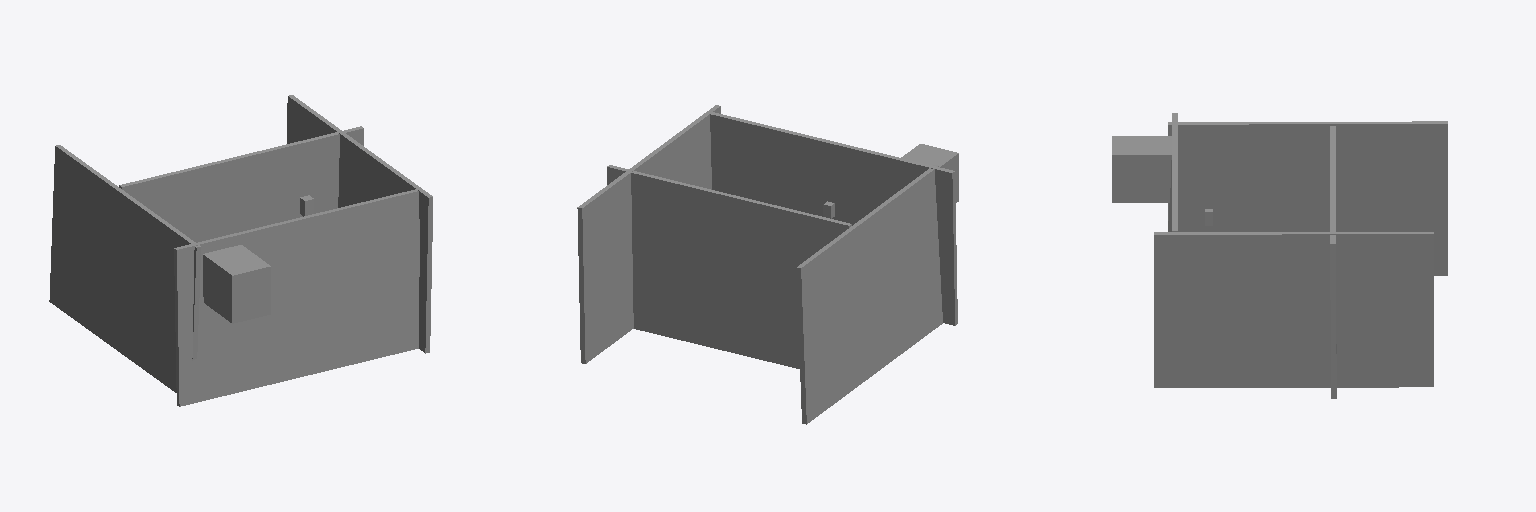
The model's file is walls.obj.
3 views of the same model, side by side, from view 1: azimuth 30°, elevation 25°; view 2: azimuth 150°, elevation 25°; view 3: azimuth 270°, elevation 25° (orthographic).
Parts seen in each view (by area): view 1: Cube.026, Cube.020_Cube.010, Cube.001, Cube.019_Cube.008, Cube.004; view 2: Cube.001, Cube.020_Cube.010, Cube.026, Cube.019_Cube.008, Cube.004; view 3: Cube.019_Cube.008, Cube.020_Cube.010, Cube.004, Cube.001, Cube.026.
Part boxes in pixels (x1,y1,x2,y2): Cube.026: (174, 189, 419, 406); Cube.020_Cube.010: (49, 145, 200, 392); Cube.001: (119, 126, 363, 242); Cube.019_Cube.008: (287, 95, 432, 353); Cube.004: (203, 245, 270, 323); Cube.001: (607, 165, 851, 368); Cube.020_Cube.010: (796, 165, 942, 424); Cube.026: (710, 112, 957, 325); Cube.019_Cube.008: (577, 105, 720, 363); Cube.004: (901, 144, 958, 202); Cube.019_Cube.008: (1154, 232, 1433, 387); Cube.020_Cube.010: (1168, 121, 1447, 275); Cube.004: (1112, 136, 1171, 202); Cube.001: (1330, 126, 1336, 398); Cube.026: (1168, 113, 1177, 231).
Bounding box in the file's own units: 30.88 × 17.26 × 33.69.